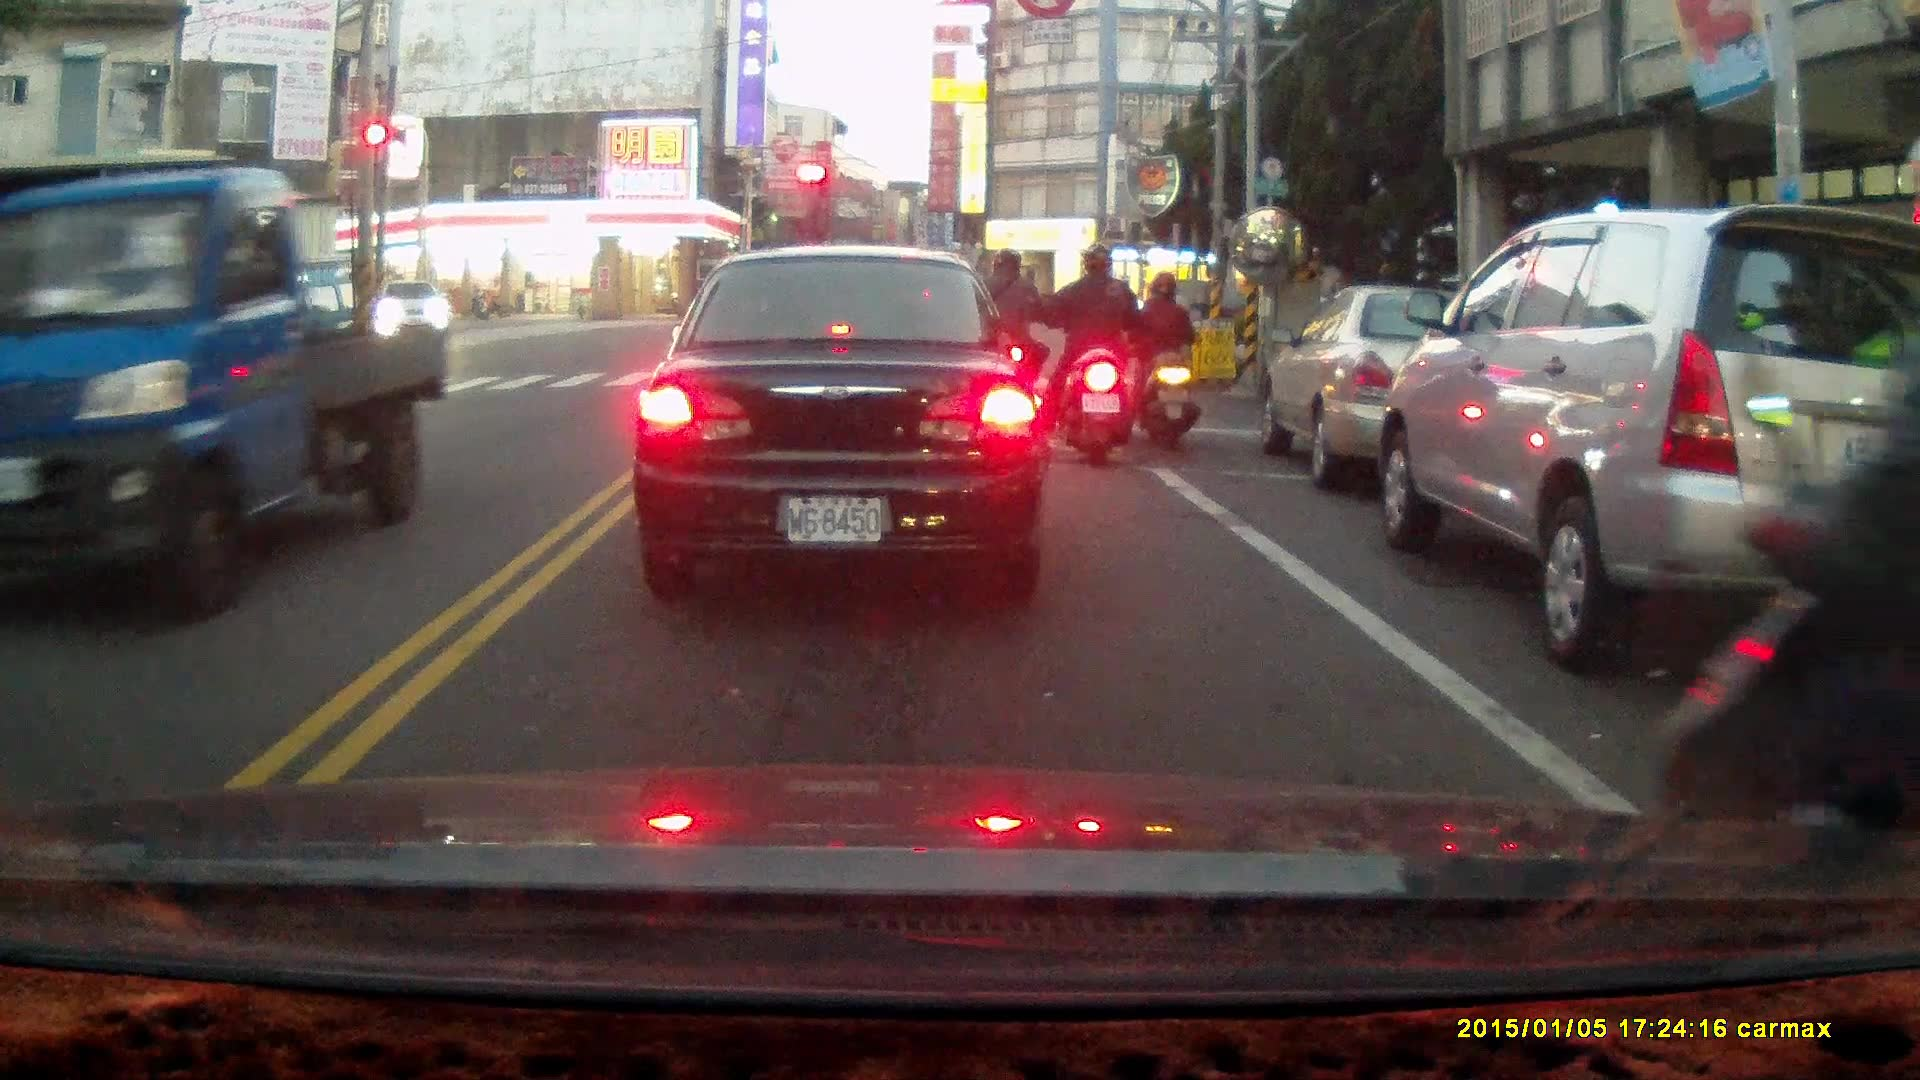rider: (1643, 250, 1920, 986), (1037, 246, 1143, 467), (964, 254, 1047, 433), (1129, 274, 1198, 452)
vehicle: (1376, 202, 1920, 676), (1, 159, 453, 625), (633, 249, 1042, 601), (1257, 286, 1563, 493), (206, 265, 390, 396)
